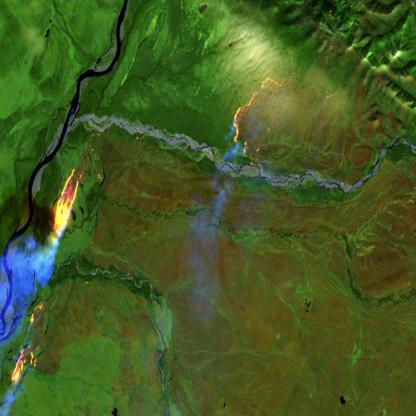fire: (228, 69, 298, 176), (37, 160, 94, 259), (8, 297, 55, 388)
